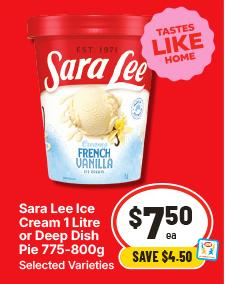description_block: (8, 197, 109, 258)
price_main: (114, 186, 211, 246)
product_image_block: (18, 10, 170, 187)
promo_text_block: (112, 243, 211, 273)
